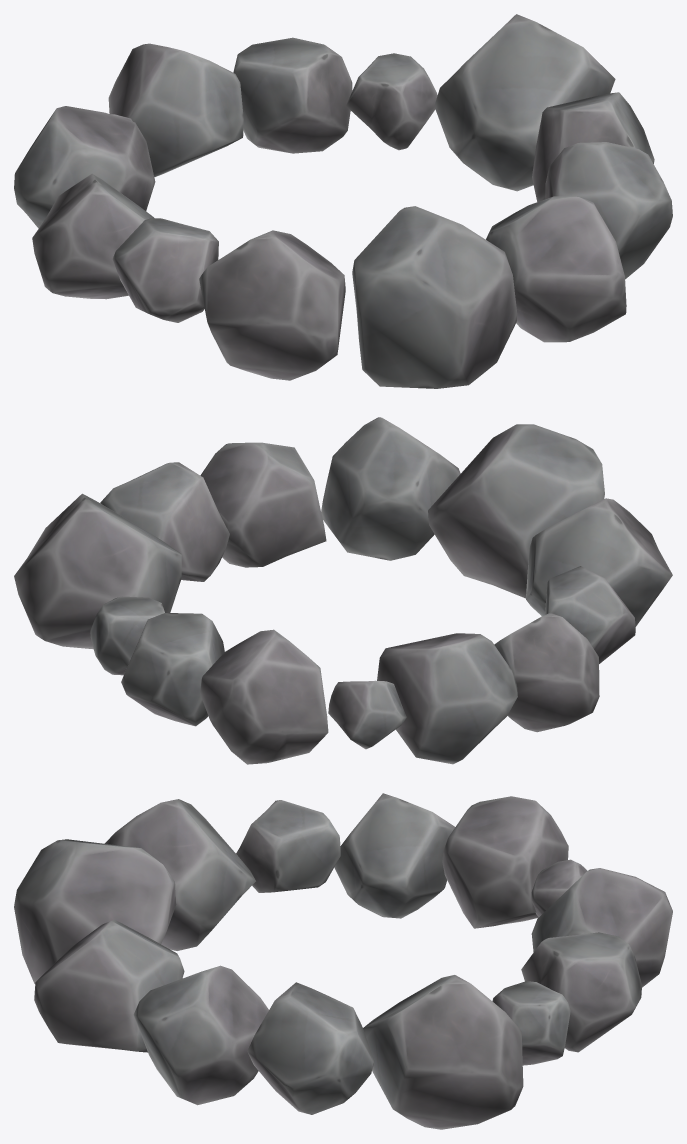
File: SM_CampFireRing_Stone.obj
3 renders of one model, top to bottom at view 1: azimuth 30°, elevation 25°; view 2: azimuth 150°, elevation 25°; view 3: azimuth 270°, elevation 25°, orthographic. The views are drawn at different scales.
Parts seen in each view (by area): view 1: SM_CampFireRing_Stone_MI_CampFire_Assets; view 2: SM_CampFireRing_Stone_MI_CampFire_Assets; view 3: SM_CampFireRing_Stone_MI_CampFire_Assets.
Boxes of the visible parts, x1,y1,x2,y2 form: SM_CampFireRing_Stone_MI_CampFire_Assets: (14,14,672,388); SM_CampFireRing_Stone_MI_CampFire_Assets: (14,417,672,764); SM_CampFireRing_Stone_MI_CampFire_Assets: (14,793,672,1129).
Bounding box in the file's own units: 1.17 × 0.3231 × 1.2.
Materials: 1 (1 with a texture image).
